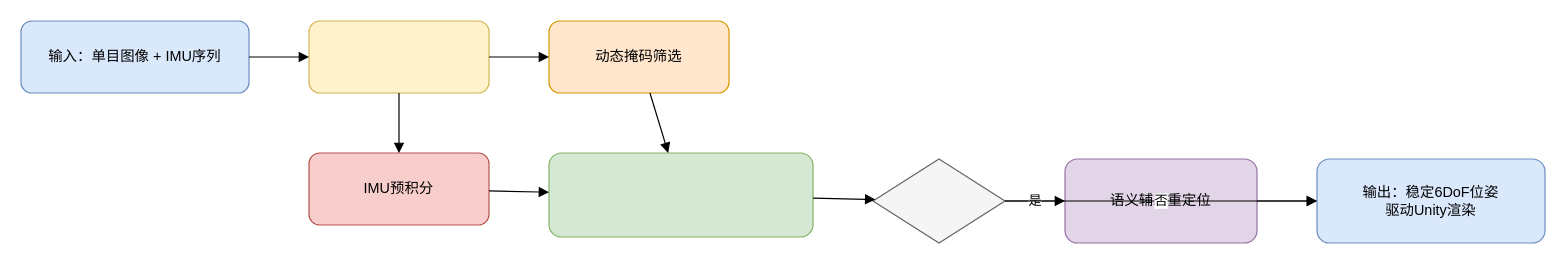
The diagram is 1566 pixels wide and 264 high, and some of its shapes have lost their labels. Here are the shapes that lost their labels. From the top down, the box of each, then its label:
(308, 20, 489, 93): 前端特征跟踪
(548, 152, 813, 237): 滑动窗口联合优化 (视觉+惯性紧耦合)
(872, 158, 1005, 243): 失败检测
